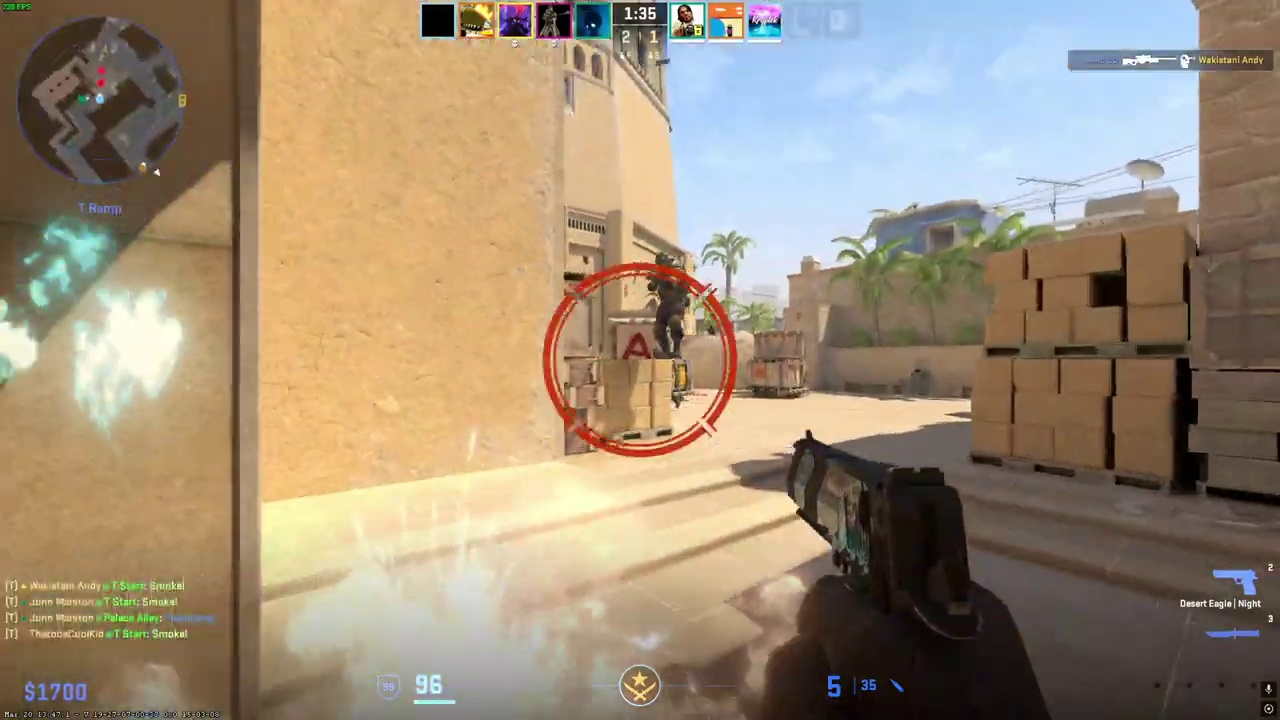CT: (648, 247, 692, 361)
